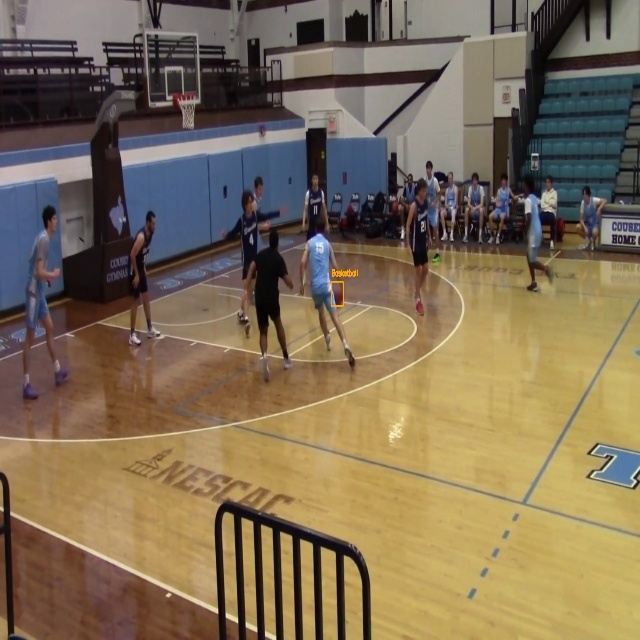Basketball: (332, 282, 343, 306)
